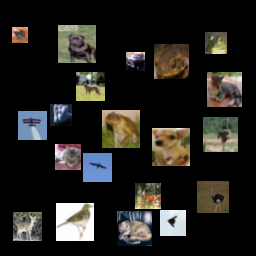airplane: (18, 111, 47, 140), (160, 210, 186, 236)
automobile: (126, 52, 145, 71)
bird: (56, 203, 94, 241), (203, 117, 238, 152), (197, 181, 229, 213), (83, 153, 112, 182), (50, 104, 72, 126)
cat: (207, 72, 242, 107), (117, 211, 152, 246), (55, 144, 81, 170)
deer: (13, 212, 42, 241), (135, 183, 161, 209)
dog: (58, 25, 96, 63), (152, 128, 190, 166), (76, 72, 105, 101)
frog: (102, 110, 140, 148), (154, 44, 189, 79), (205, 32, 227, 54), (12, 27, 28, 43)
